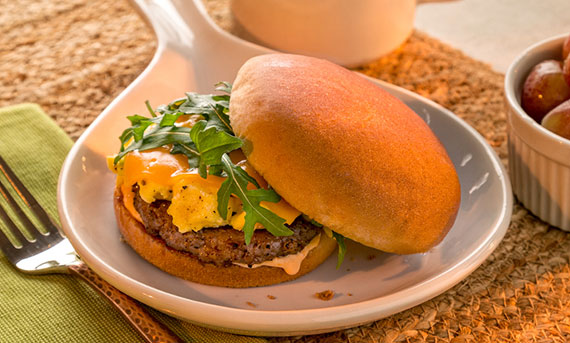hamburger_buns: (137, 47, 446, 302)
